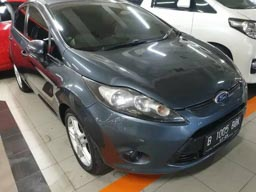plat: (205, 114, 242, 153)
